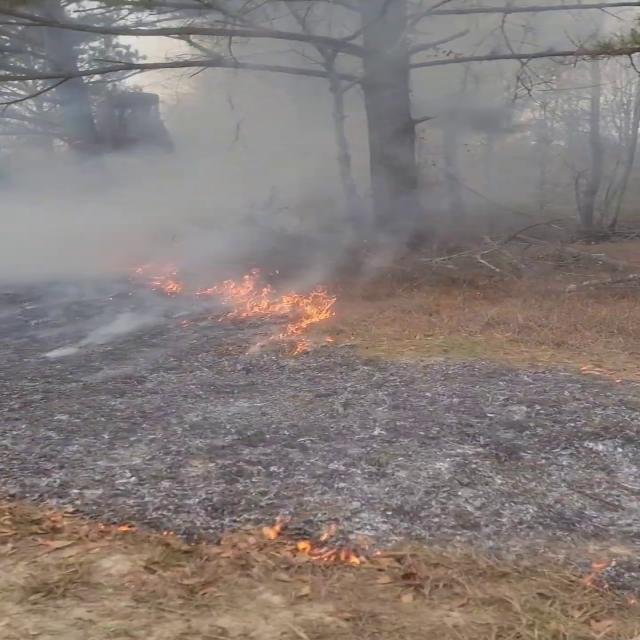Fire: (210, 264, 344, 348)
Smoke: (2, 0, 634, 348)
